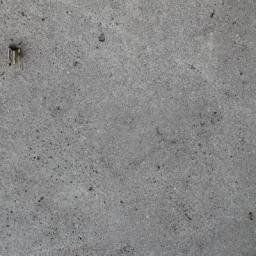FOD: (7, 45, 29, 73)
